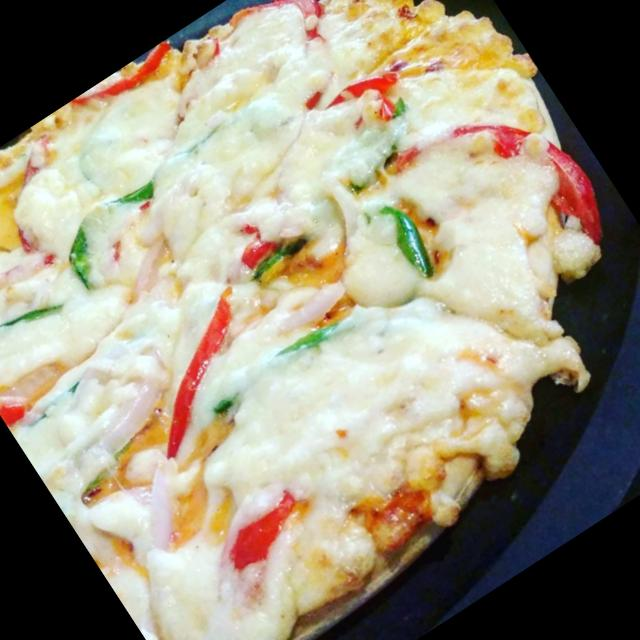peppers: (101, 282, 284, 454), (454, 74, 618, 263), (33, 160, 190, 297), (205, 479, 317, 579), (320, 55, 419, 154), (71, 40, 180, 126), (231, 0, 342, 74), (367, 190, 449, 284), (0, 231, 60, 334), (273, 308, 352, 374), (0, 279, 70, 352), (220, 212, 292, 280), (0, 386, 38, 430)
pizza: (0, 0, 609, 640)
